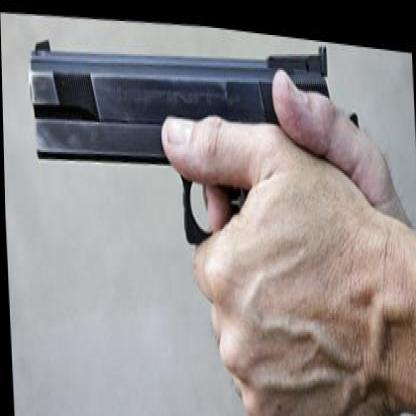pistol: (24, 5, 371, 260)
